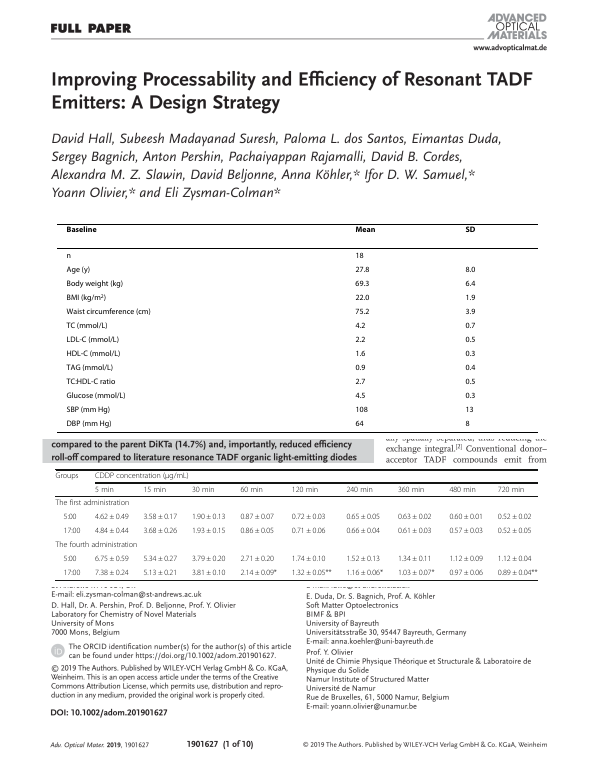borderless: (56, 222, 538, 432), (54, 468, 538, 580)
cell: (94, 472, 190, 481), (66, 307, 152, 317), (55, 540, 138, 550), (55, 498, 130, 508), (66, 391, 127, 401), (66, 279, 124, 289), (66, 349, 121, 359), (66, 335, 120, 345), (66, 377, 116, 387), (66, 363, 114, 373), (66, 419, 112, 429), (66, 405, 111, 415), (66, 321, 108, 331), (66, 293, 107, 303), (291, 568, 332, 578), (497, 568, 538, 578), (239, 568, 278, 578), (345, 568, 384, 578), (397, 568, 435, 578), (94, 512, 130, 522), (142, 512, 178, 522), (239, 512, 275, 522), (345, 512, 381, 522), (448, 512, 484, 522), (94, 526, 130, 536), (142, 526, 178, 536), (239, 526, 275, 536), (345, 526, 381, 536), (448, 526, 484, 536), (94, 554, 130, 564), (142, 554, 178, 564), (239, 554, 275, 564), (345, 554, 381, 564), (448, 554, 484, 564), (94, 568, 130, 578), (142, 568, 178, 578), (448, 568, 484, 578), (191, 512, 226, 522), (291, 512, 326, 522), (397, 512, 432, 522), (497, 512, 532, 522), (191, 526, 226, 536), (291, 526, 326, 536), (397, 526, 432, 536), (497, 526, 532, 536), (191, 554, 226, 564), (291, 554, 326, 564), (397, 554, 432, 564), (497, 554, 532, 564), (191, 568, 226, 578), (345, 485, 374, 494), (448, 485, 477, 494), (66, 225, 98, 233), (291, 485, 319, 494), (397, 485, 425, 494), (497, 485, 525, 494), (66, 265, 91, 275), (142, 485, 167, 494), (239, 485, 264, 494), (55, 472, 79, 481), (191, 485, 215, 494), (62, 526, 81, 536), (62, 568, 81, 578), (94, 485, 115, 494), (354, 225, 376, 233), (354, 265, 370, 275), (354, 279, 370, 289), (354, 293, 370, 303), (354, 307, 370, 317), (354, 405, 369, 415), (62, 512, 77, 522), (62, 554, 77, 564), (464, 265, 476, 275), (464, 279, 476, 289), (464, 293, 476, 303), (464, 307, 476, 317), (354, 321, 366, 331), (464, 321, 476, 331), (354, 335, 366, 345), (464, 335, 476, 345), (354, 349, 366, 359), (464, 349, 476, 359), (354, 363, 366, 373), (464, 363, 476, 373), (354, 377, 366, 387), (464, 377, 476, 387), (354, 391, 366, 401), (354, 251, 365, 261), (465, 391, 476, 401), (464, 405, 475, 415), (354, 419, 365, 429), (464, 225, 476, 233), (464, 419, 471, 429), (66, 251, 72, 261)
